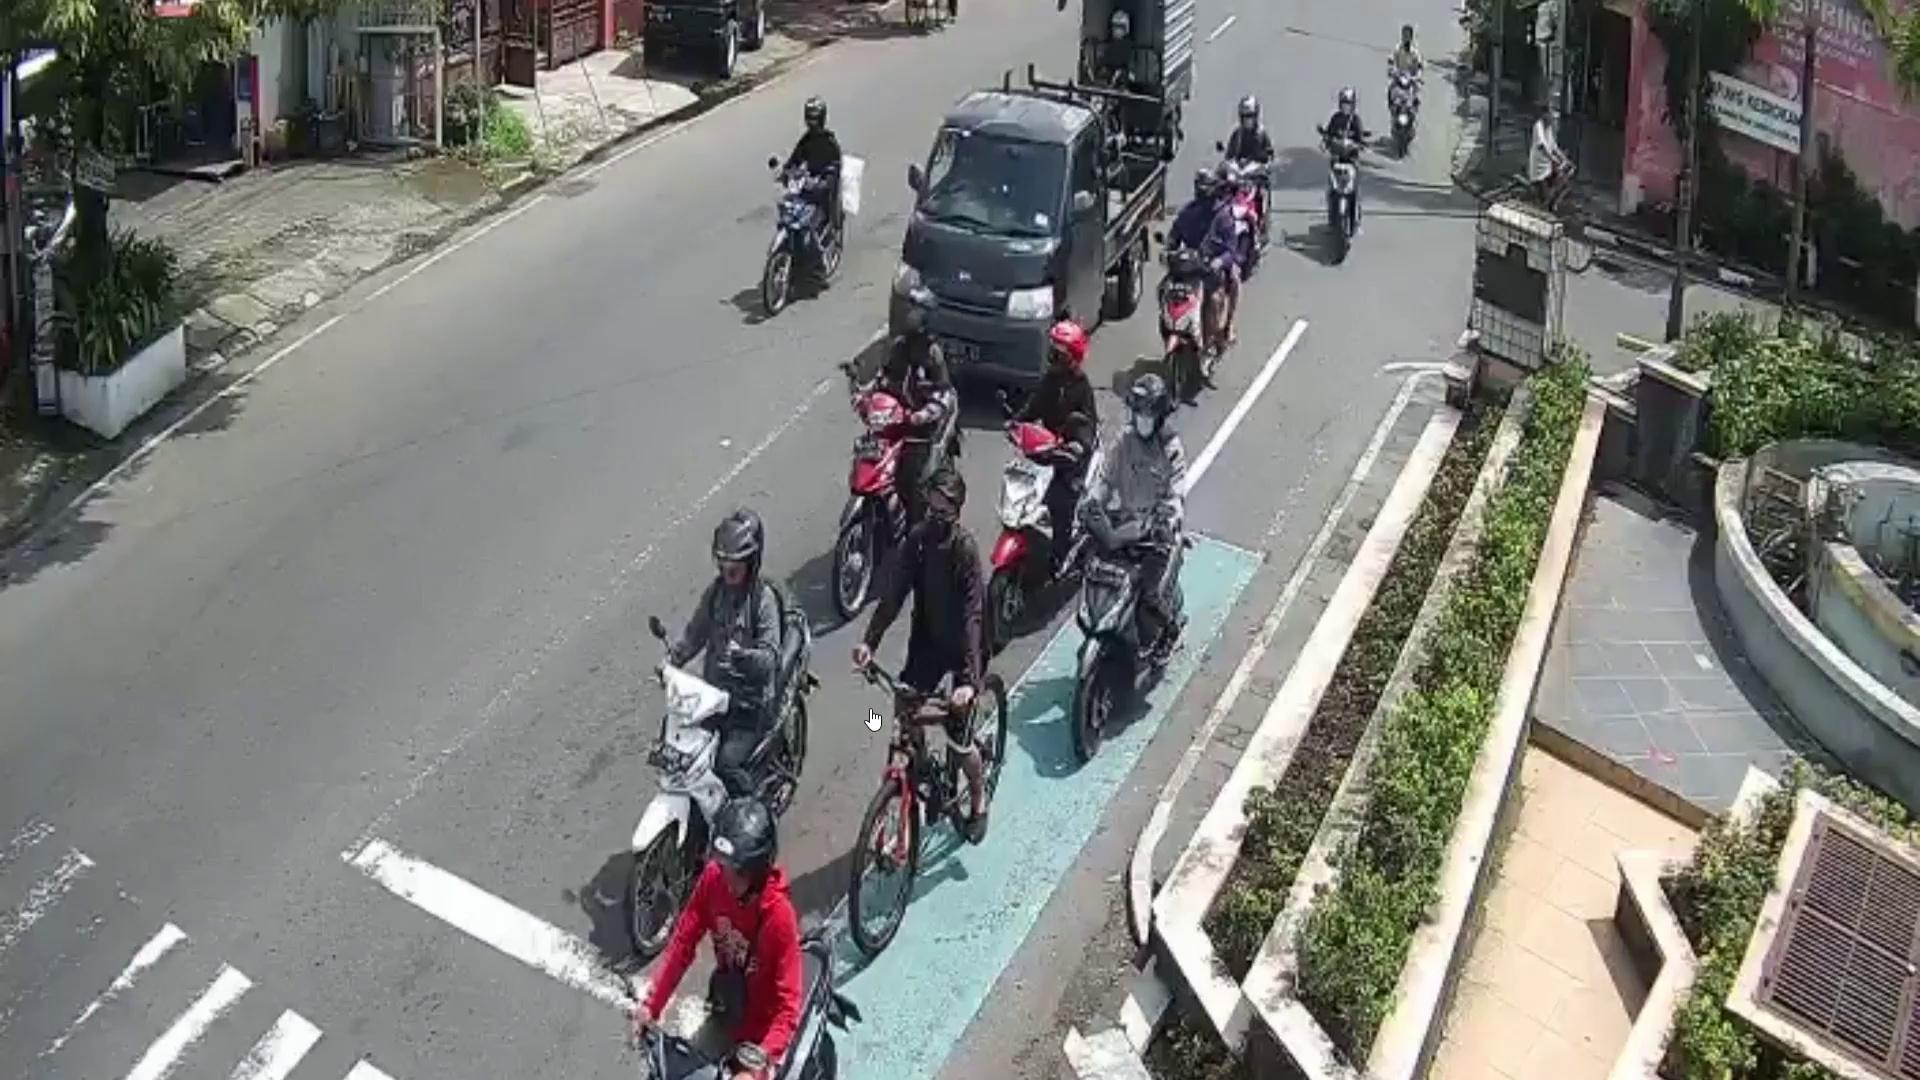car: (889, 87, 1166, 386)
motorbike: (629, 604, 808, 942), (833, 392, 961, 618), (1077, 505, 1185, 757), (984, 418, 1104, 638), (761, 160, 843, 311), (1160, 245, 1211, 406), (1316, 135, 1369, 265)
